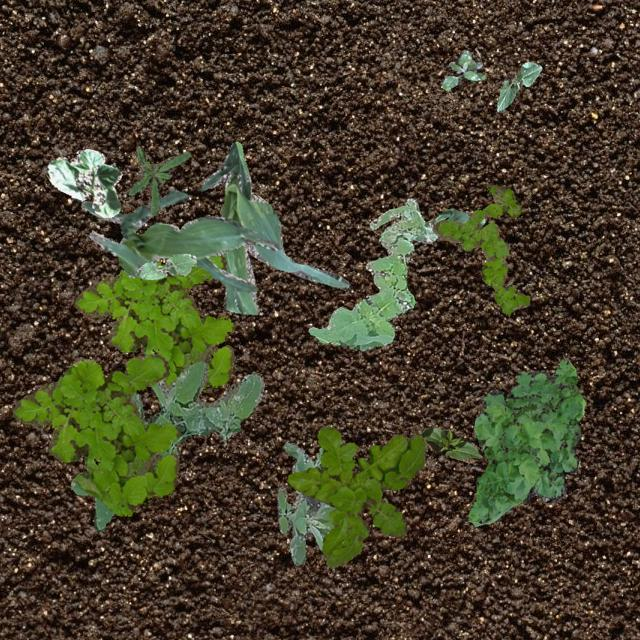crop: (200, 140, 348, 314), (80, 190, 278, 292), (46, 148, 120, 216), (408, 208, 484, 242), (418, 424, 482, 462), (496, 60, 540, 111), (136, 252, 194, 278)
weed: (70, 360, 264, 530), (11, 352, 180, 514), (74, 254, 234, 386), (466, 358, 584, 526), (286, 426, 426, 566), (307, 196, 423, 350), (432, 184, 528, 316), (276, 440, 334, 564), (126, 147, 190, 215), (440, 50, 484, 90)
